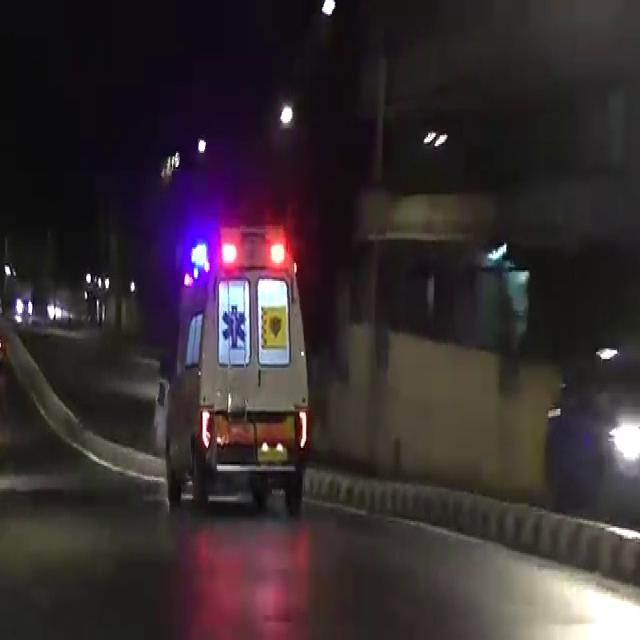ambulance: (174, 218, 327, 510)
